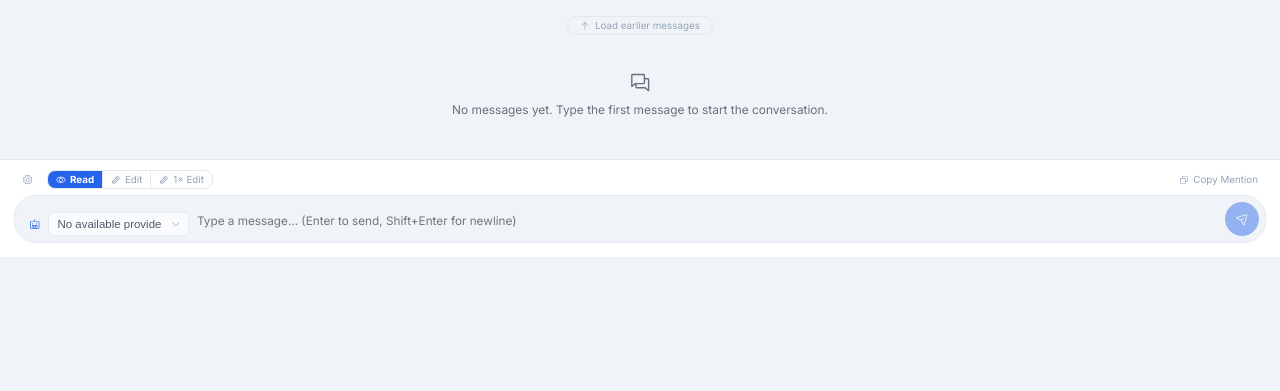
Test: ConversationView optimistic send › places a late turn from the earlier page above the failed bubble
Step 1. Type "failed A" into the text box with placeholder "Type a message… (Enter to send, Shift+Enter for newline)" → (707, 222), box [197,208,1217,236]
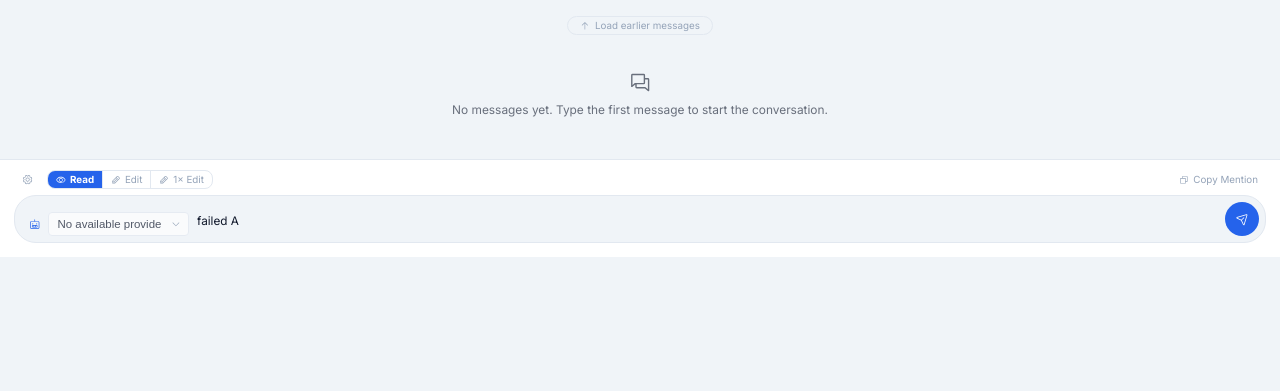
Step 2. Submit the form, box [0,159,1279,257]
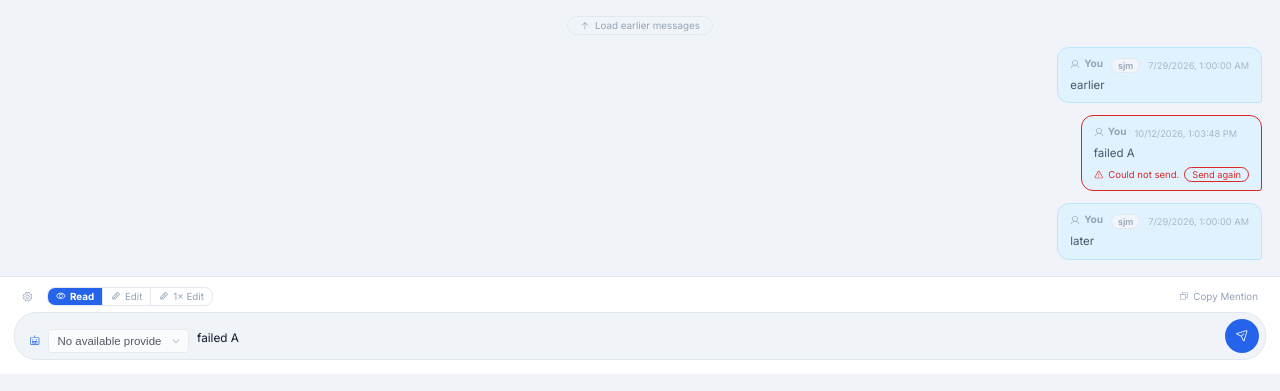
Check: the elements with class "conv-body" read "earlier", "failed A", "later", in this order, box [1070,78,1104,92]; [1094,146,1135,160]; [1070,234,1094,248]
